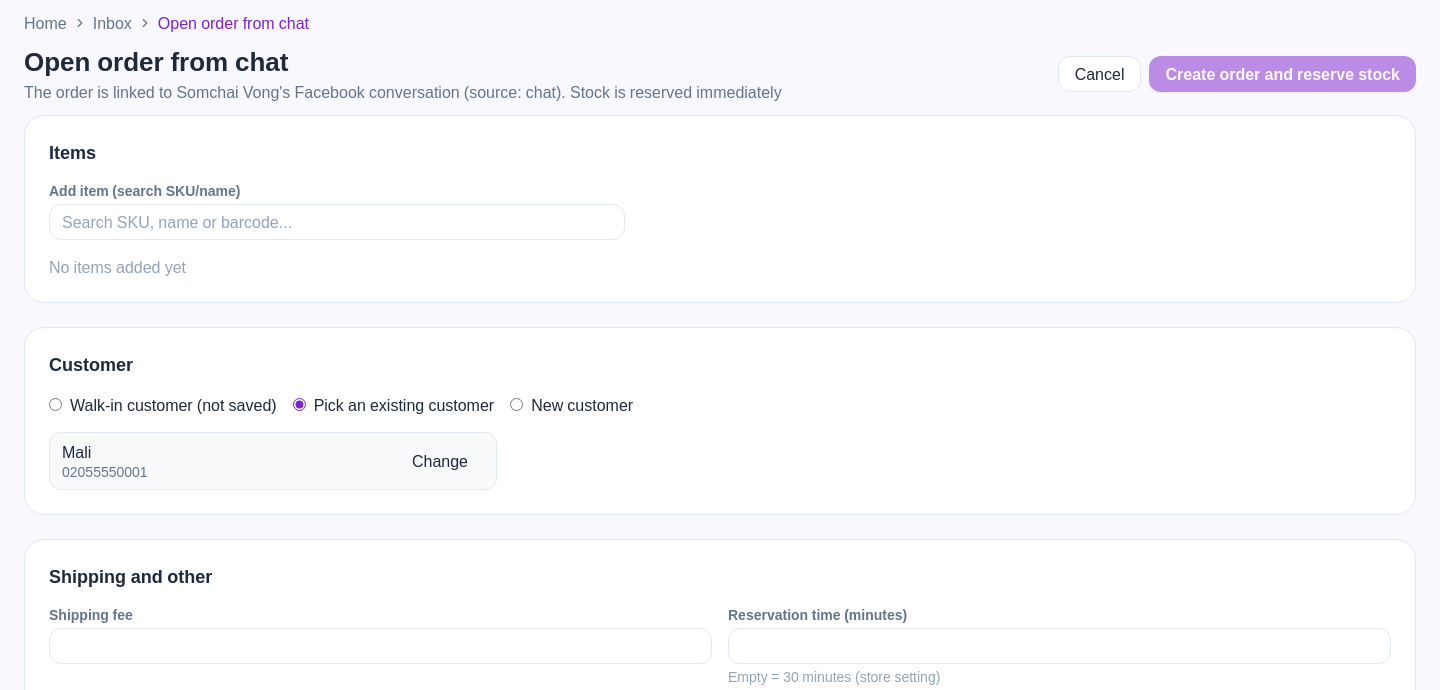
ChatOrderPage › ສົ່ງສະຫຼຸບ throw: alert ບອກໃຫ້ກວດແຊັດກ່ອນສົ່ງຊ້ຳ (ເຊີບເວີອາດສົ່ງແລ້ວ)
Type "tee" into the dropdown labelled "Add item (search SKU/name)" at (337, 222), box [49,204,625,240]
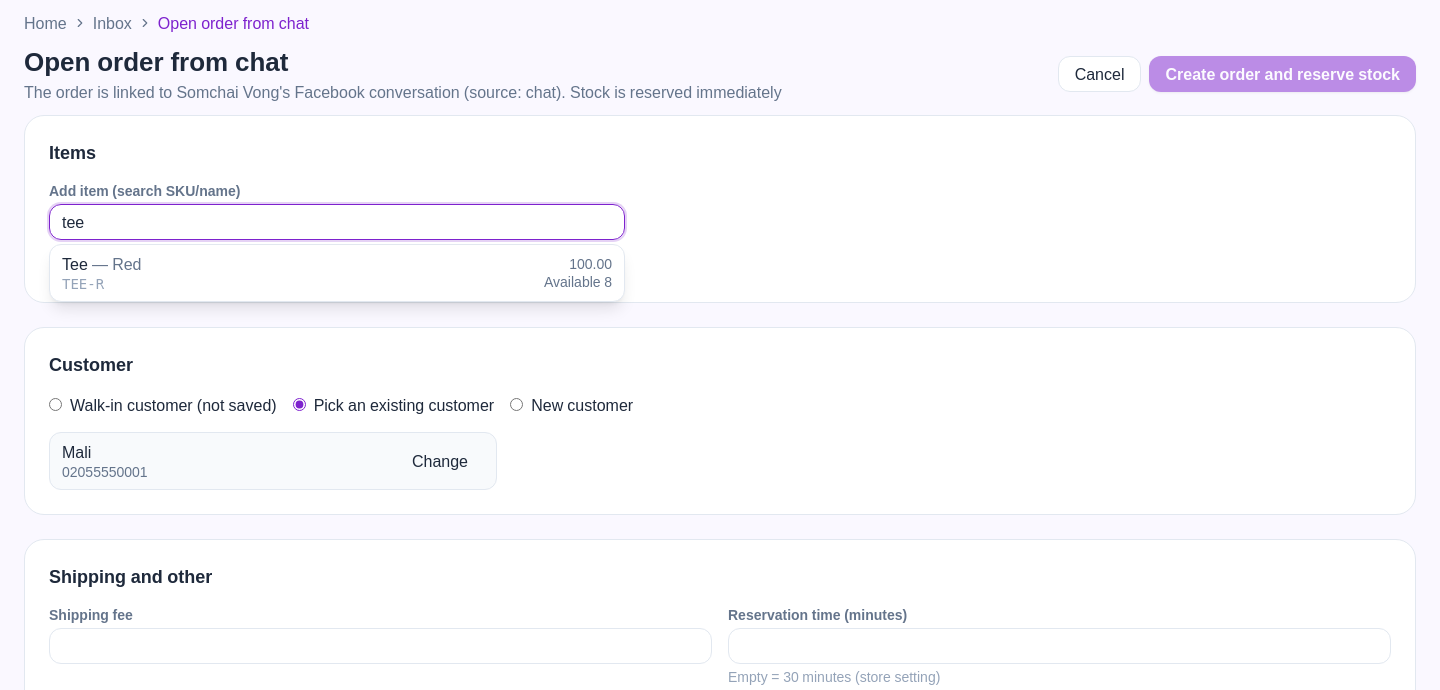
Click the option "Tee — Red TEE-R 100.00 Available 8" at (83, 284), box [50,244,624,300]
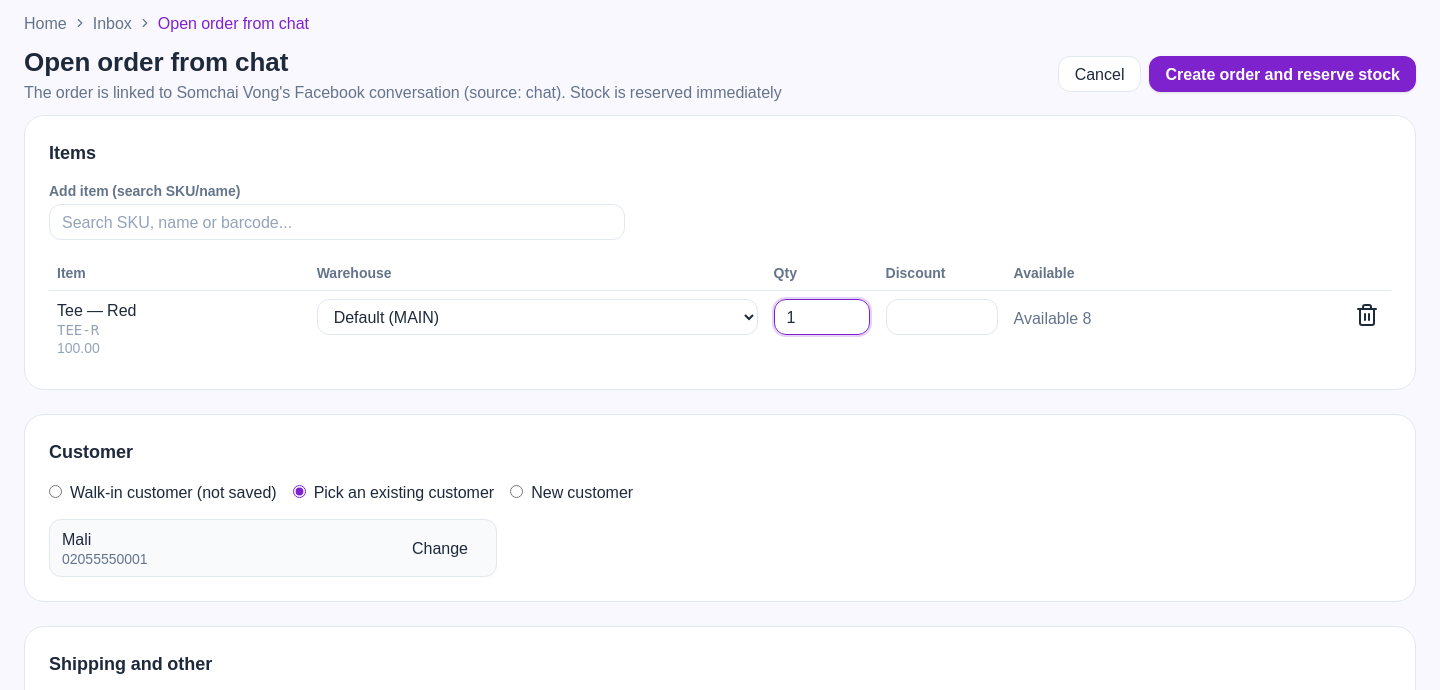
Click the button "Create order and reserve stock" at (1283, 74), box [1150,56,1416,92]
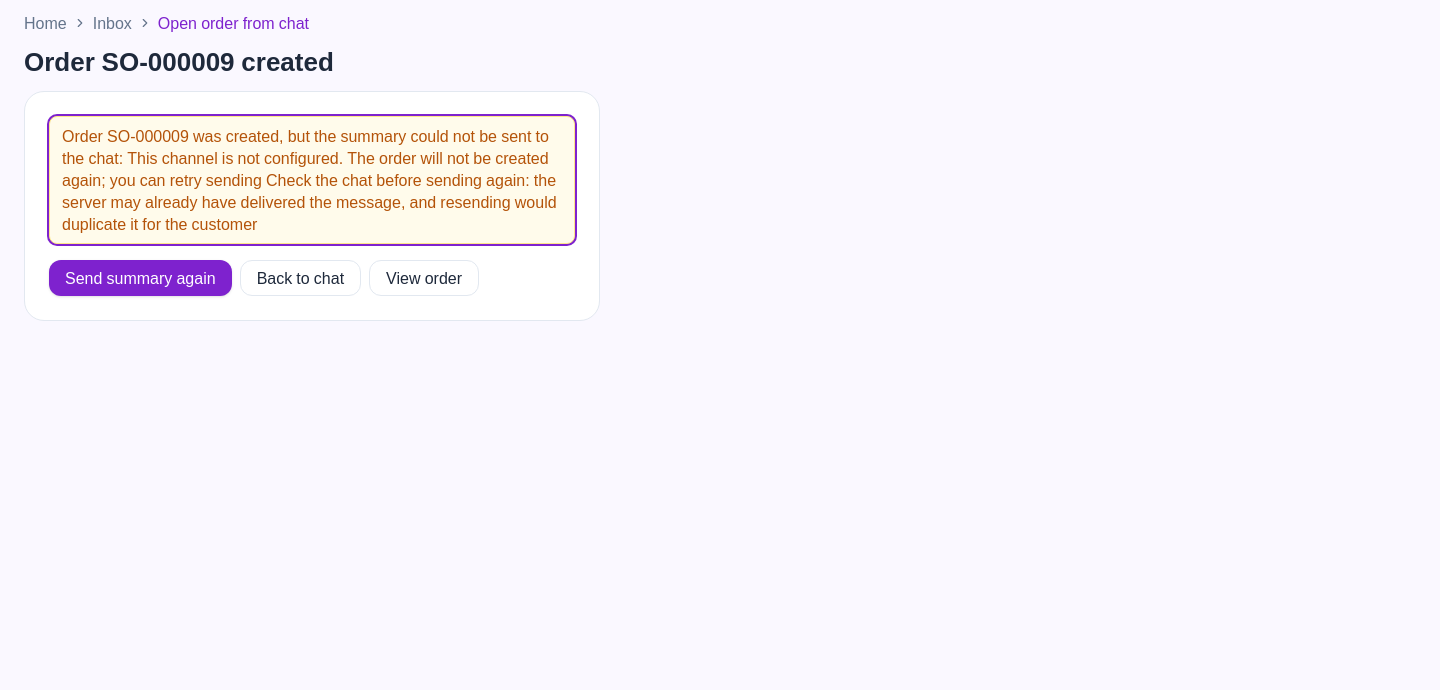
Check: the message shows "Check the chat before sending again", box [62,166,557,236]
